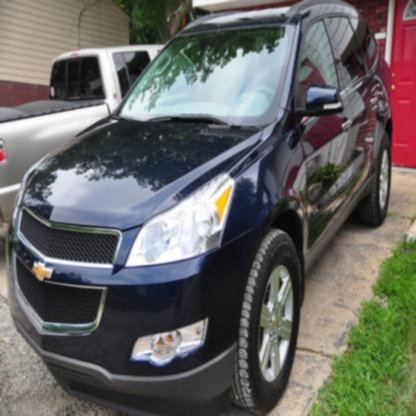Vehicle: (5, 0, 392, 416)
